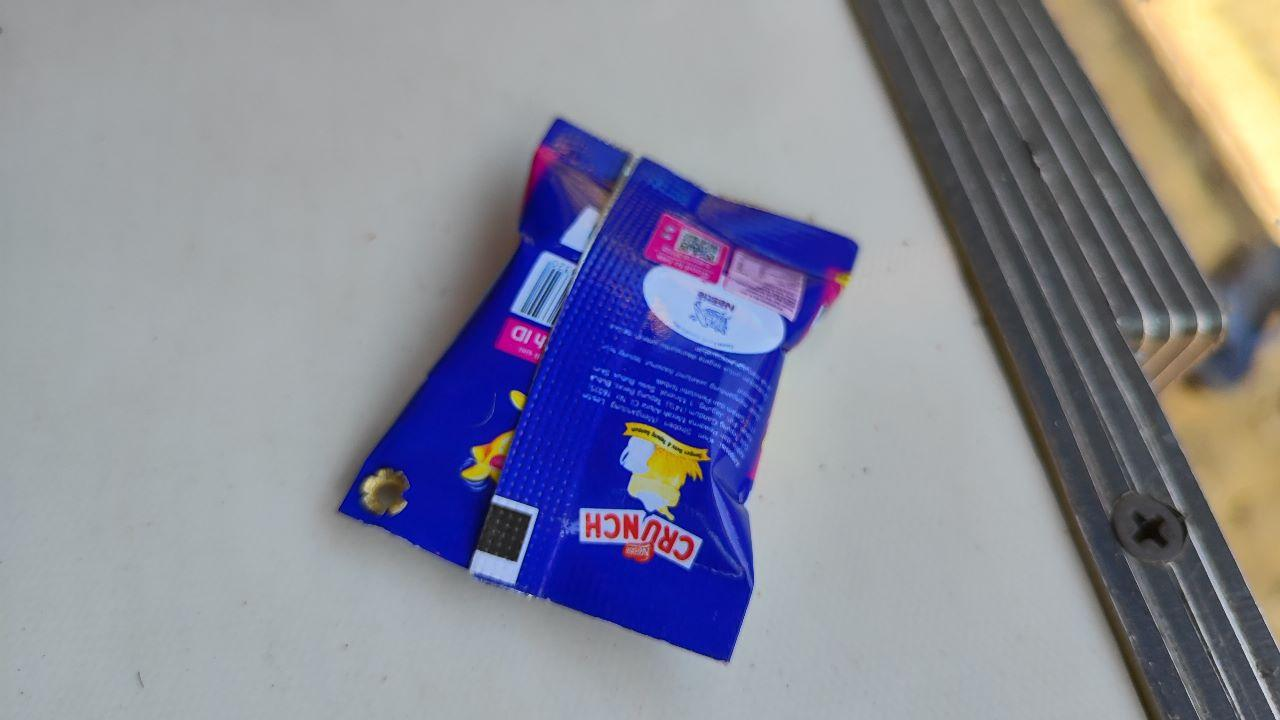Plastik: (336, 115, 860, 672)
